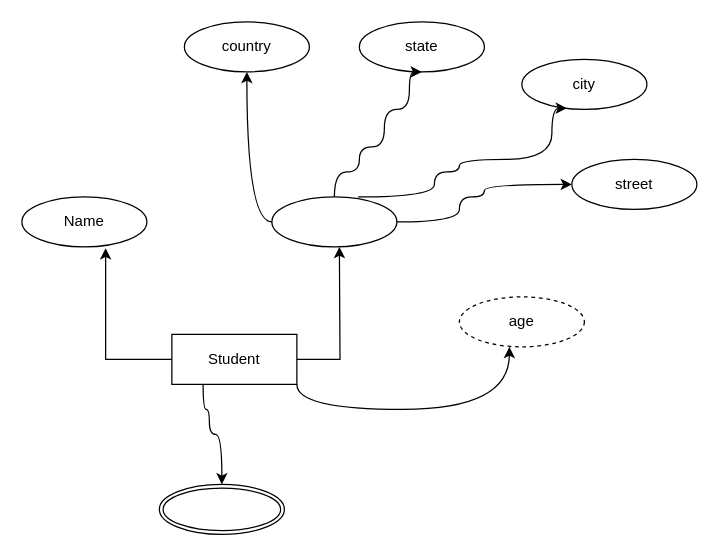
Image size: 719x556. Some labels were removed from this diagram. The shapes that lost their labels are listed below. From the top down, each one's box as (x1, y1, x2, y2) in pixels, then its label:
(271, 196, 397, 247): Address
(158, 483, 284, 534): phone_Nomb
